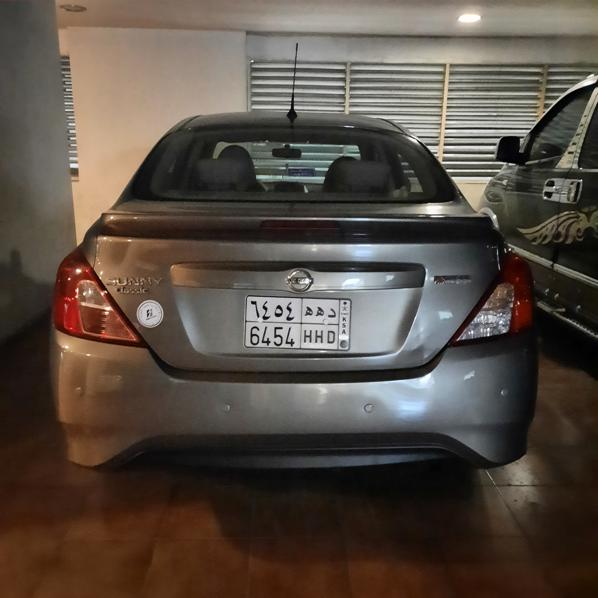numberplate: (245, 295, 353, 352)
